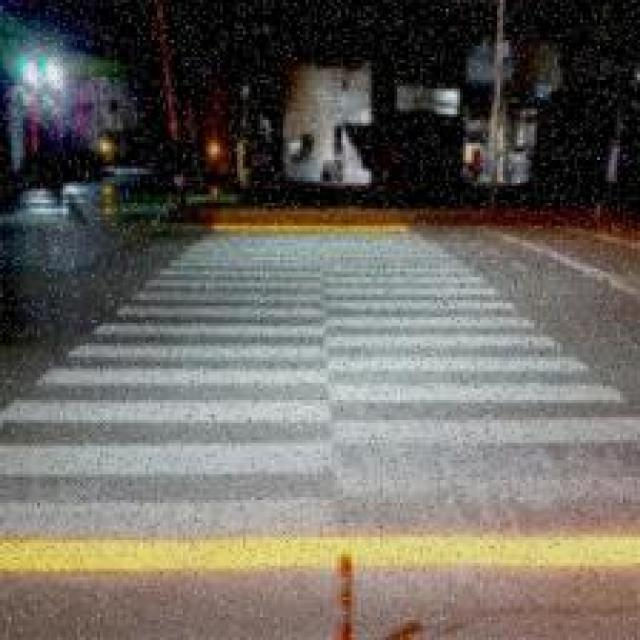crosswalk: (0, 216, 636, 626)
